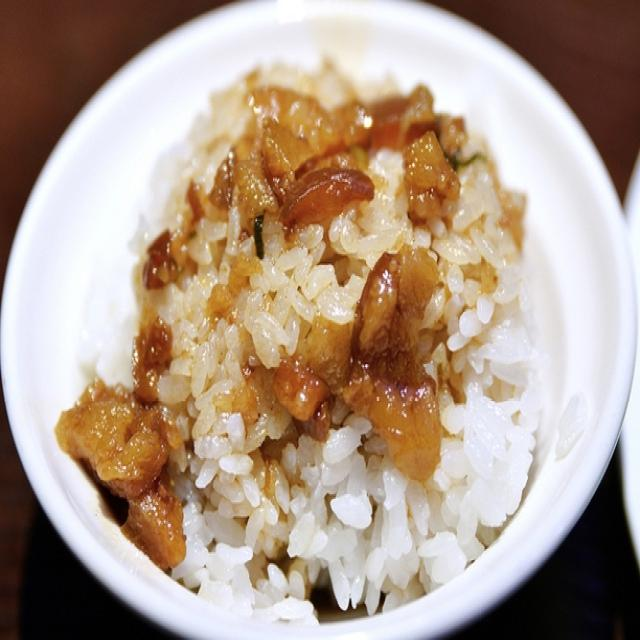猪肉菜式: (56, 51, 597, 614)
